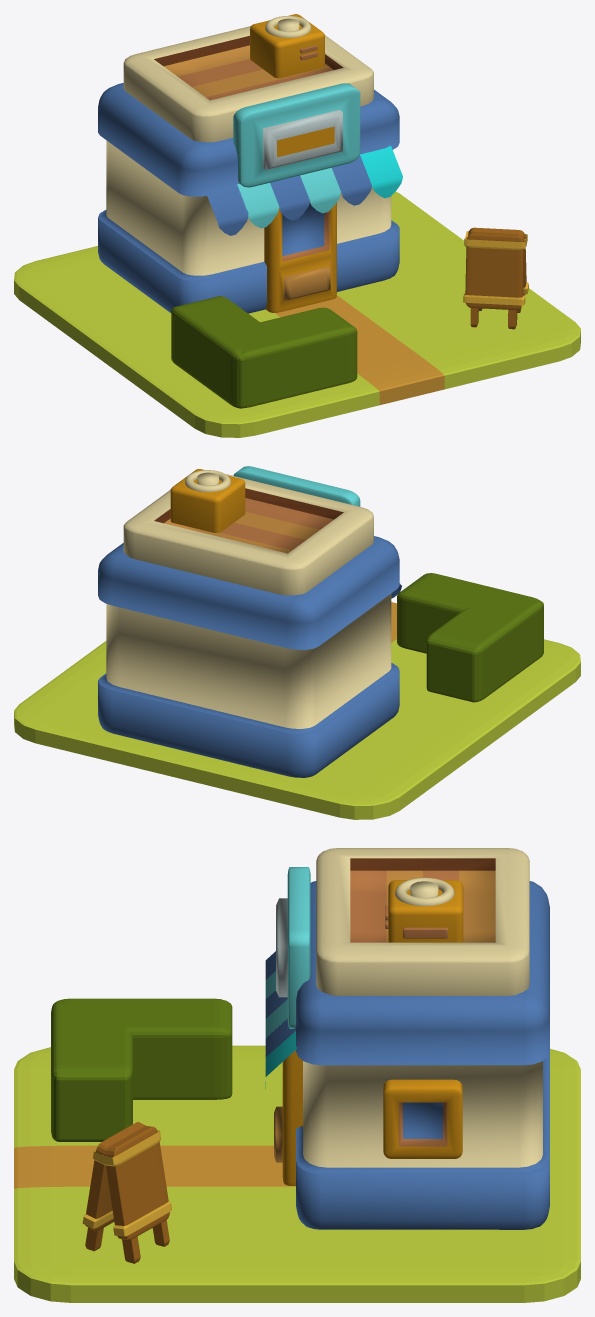
Rendered from house__cute_series.glb.
3 views of the same model, one above another, from view 1: azimuth 30°, elevation 25°; view 2: azimuth 150°, elevation 25°; view 3: azimuth 270°, elevation 25° (orthographic). The views are drawn at different scales.
Parts seen in each view (by area): view 1: House, Ground, Brushes, Sign; view 2: House, Ground, Brushes; view 3: House, Ground, Brushes, Sign.
Boxes of the visible parts, bbox=[...] form: House: bbox=[98, 14, 402, 313]; Ground: bbox=[14, 191, 580, 437]; Brushes: bbox=[171, 296, 357, 408]; Sign: bbox=[463, 227, 528, 329]; House: bbox=[98, 466, 401, 777]; Ground: bbox=[14, 602, 580, 819]; Brushes: bbox=[397, 573, 543, 702]; House: bbox=[265, 848, 549, 1229]; Ground: bbox=[14, 1045, 580, 1302]; Brushes: bbox=[51, 998, 232, 1141]; Sign: bbox=[82, 1122, 171, 1263].
Bounding box in the file's own units: 6.35 × 4 × 6.35.
